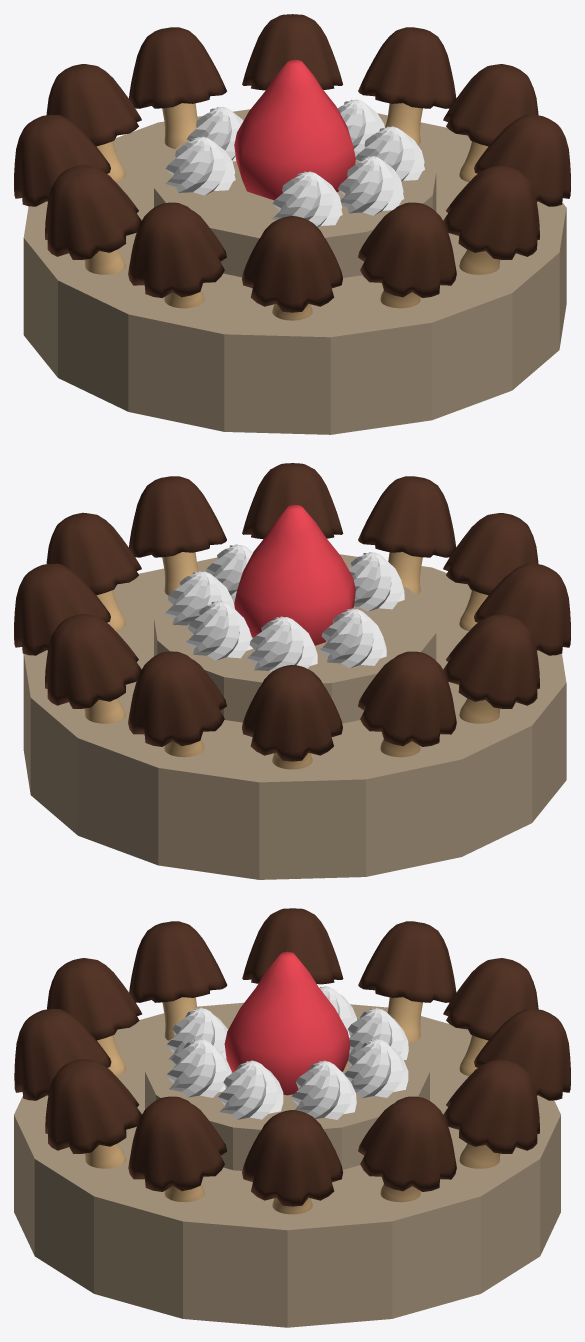
The model's file is kinokocake.fbx.
3 renders of one model, top to bottom at view 1: azimuth 30°, elevation 25°; view 2: azimuth 150°, elevation 25°; view 3: azimuth 270°, elevation 25°, orthographic.
Parts seen in each view (by area): view 1: 円.003, 円柱.001, 平面|円.008|Dupli|3.001, 平面|円.008|Dupli|11.001, 平面|円.008|Dupli|2.001, 平面|円.008|Dupli|.001, 平面|円.008|Dupli|1.001, 平面|円.008|Dupli|6.001, 平面|円.008|Dupli|8.001, 平面|円.008|Dupli|5.001, 平面|円.008|Dupli|9.001, 平面|円.008|Dupli|4.001 (+8 smaller); view 2: 円.003, 円柱.001, 平面|円.008|Dupli|3.001, 平面|円.008|Dupli|7.001, 平面|円.008|Dupli|6.001, 平面|円.008|Dupli|4.001, 平面|円.008|Dupli|5.001, 平面|円.008|Dupli|10.001, 平面|円.008|Dupli|.001, 平面|円.008|Dupli|9.001, 平面|円.008|Dupli|1.001, 平面|円.008|Dupli|2.001 (+8 smaller); view 3: 円.003, 円柱.001, 平面|円.008|Dupli|11.001, 平面|円.008|Dupli|7.001, 平面|円.008|Dupli|8.001, 平面|円.008|Dupli|10.001, 平面|円.008|Dupli|9.001, 平面|円.008|Dupli|4.001, 平面|円.008|Dupli|2.001, 平面|円.008|Dupli|1.001, 平面|円.008|Dupli|5.001, 平面|円.008|Dupli|.001 (+9 smaller).
Part boxes in pixels (<box>): 円.003: <box>23,109,566,434</box>; 円柱.001: <box>234,59,355,200</box>; 平面|円.008|Dupli|3.001: <box>45,165,141,274</box>; 平面|円.008|Dupli|11.001: <box>443,165,539,274</box>; 平面|円.008|Dupli|2.001: <box>128,202,226,308</box>; 平面|円.008|Dupli|.001: <box>358,202,456,308</box>; 平面|円.008|Dupli|1.001: <box>242,216,342,320</box>; 平面|円.008|Dupli|6.001: <box>129,27,226,148</box>; 平面|円.008|Dupli|8.001: <box>358,27,456,145</box>; 平面|円.008|Dupli|5.001: <box>46,64,141,181</box>; 平面|円.008|Dupli|9.001: <box>443,64,538,182</box>; 平面|円.008|Dupli|4.001: <box>14,115,110,206</box>; 円.003: <box>23,554,566,879</box>; 円柱.001: <box>234,504,355,645</box>; 平面|円.008|Dupli|3.001: <box>443,614,539,723</box>; 平面|円.008|Dupli|7.001: <box>45,614,141,723</box>; 平面|円.008|Dupli|6.001: <box>128,651,226,757</box>; 平面|円.008|Dupli|4.001: <box>358,651,456,757</box>; 平面|円.008|Dupli|5.001: <box>242,665,342,769</box>; 平面|円.008|Dupli|10.001: <box>129,476,226,595</box>; 平面|円.008|Dupli|.001: <box>358,476,456,595</box>; 平面|円.008|Dupli|9.001: <box>46,512,141,630</box>; 平面|円.008|Dupli|1.001: <box>443,513,538,630</box>; 平面|円.008|Dupli|2.001: <box>474,563,570,655</box>; 円.003: <box>14,1002,560,1327</box>; 円柱.001: <box>224,951,350,1095</box>; 平面|円.008|Dupli|11.001: <box>45,1059,141,1168</box>; 平面|円.008|Dupli|7.001: <box>443,1059,539,1168</box>; 平面|円.008|Dupli|8.001: <box>358,1096,456,1202</box>; 平面|円.008|Dupli|10.001: <box>128,1096,227,1202</box>; 平面|円.008|Dupli|9.001: <box>242,1110,342,1214</box>; 平面|円.008|Dupli|4.001: <box>358,921,456,1042</box>; 平面|円.008|Dupli|2.001: <box>129,921,227,1040</box>; 平面|円.008|Dupli|1.001: <box>47,958,141,1076</box>; 平面|円.008|Dupli|5.001: <box>443,958,538,1075</box>; 平面|円.008|Dupli|.001: <box>14,1009,111,1100</box>.
Size of the model in its own units: 79.22 by 40.38 by 79.28.
